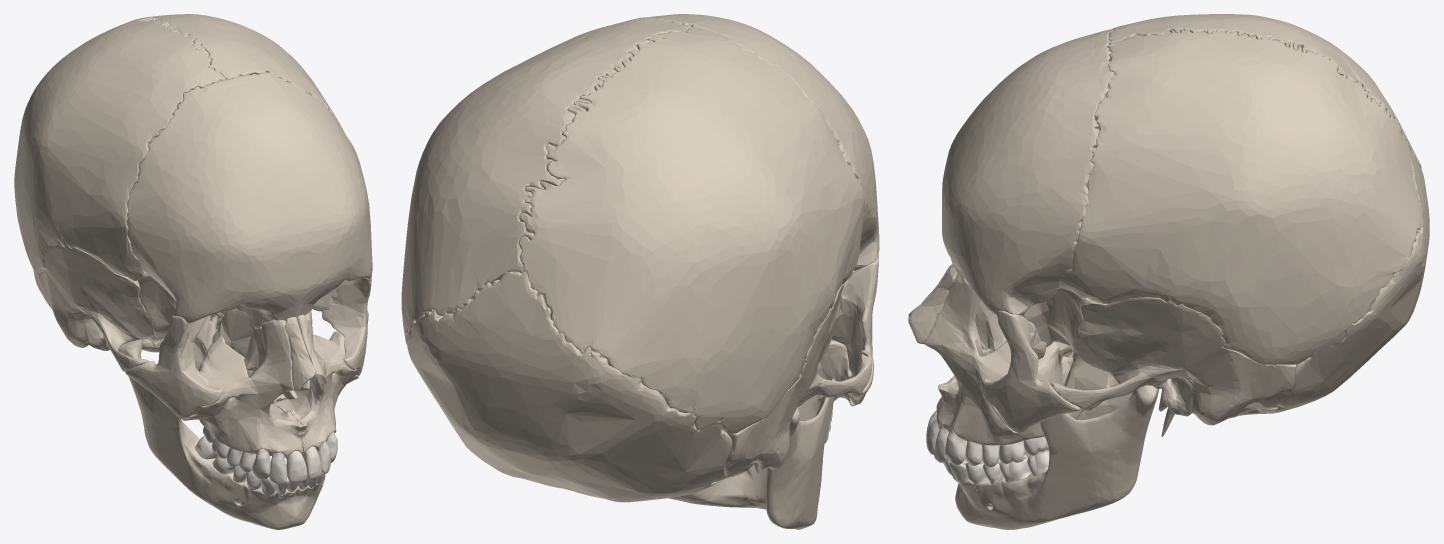
Rendered from normal.glb.
3 renders of one model, left to right at view 1: azimuth 30°, elevation 25°; view 2: azimuth 150°, elevation 25°; view 3: azimuth 270°, elevation 25°, orthographic. The views are drawn at different scales.
Visible parts, largest first — view 1: bone, teeth; view 2: bone; view 3: bone, teeth.
Boxes of the visible parts, box(x1,y1,x2,y2) form: bone: box(14, 14, 372, 529); teeth: box(195, 426, 337, 496); bone: box(401, 14, 879, 529); bone: box(908, 14, 1429, 529); teeth: box(926, 410, 1049, 490).
Size of the model in its own units: 0.1482 by 0.2089 by 0.2035.
